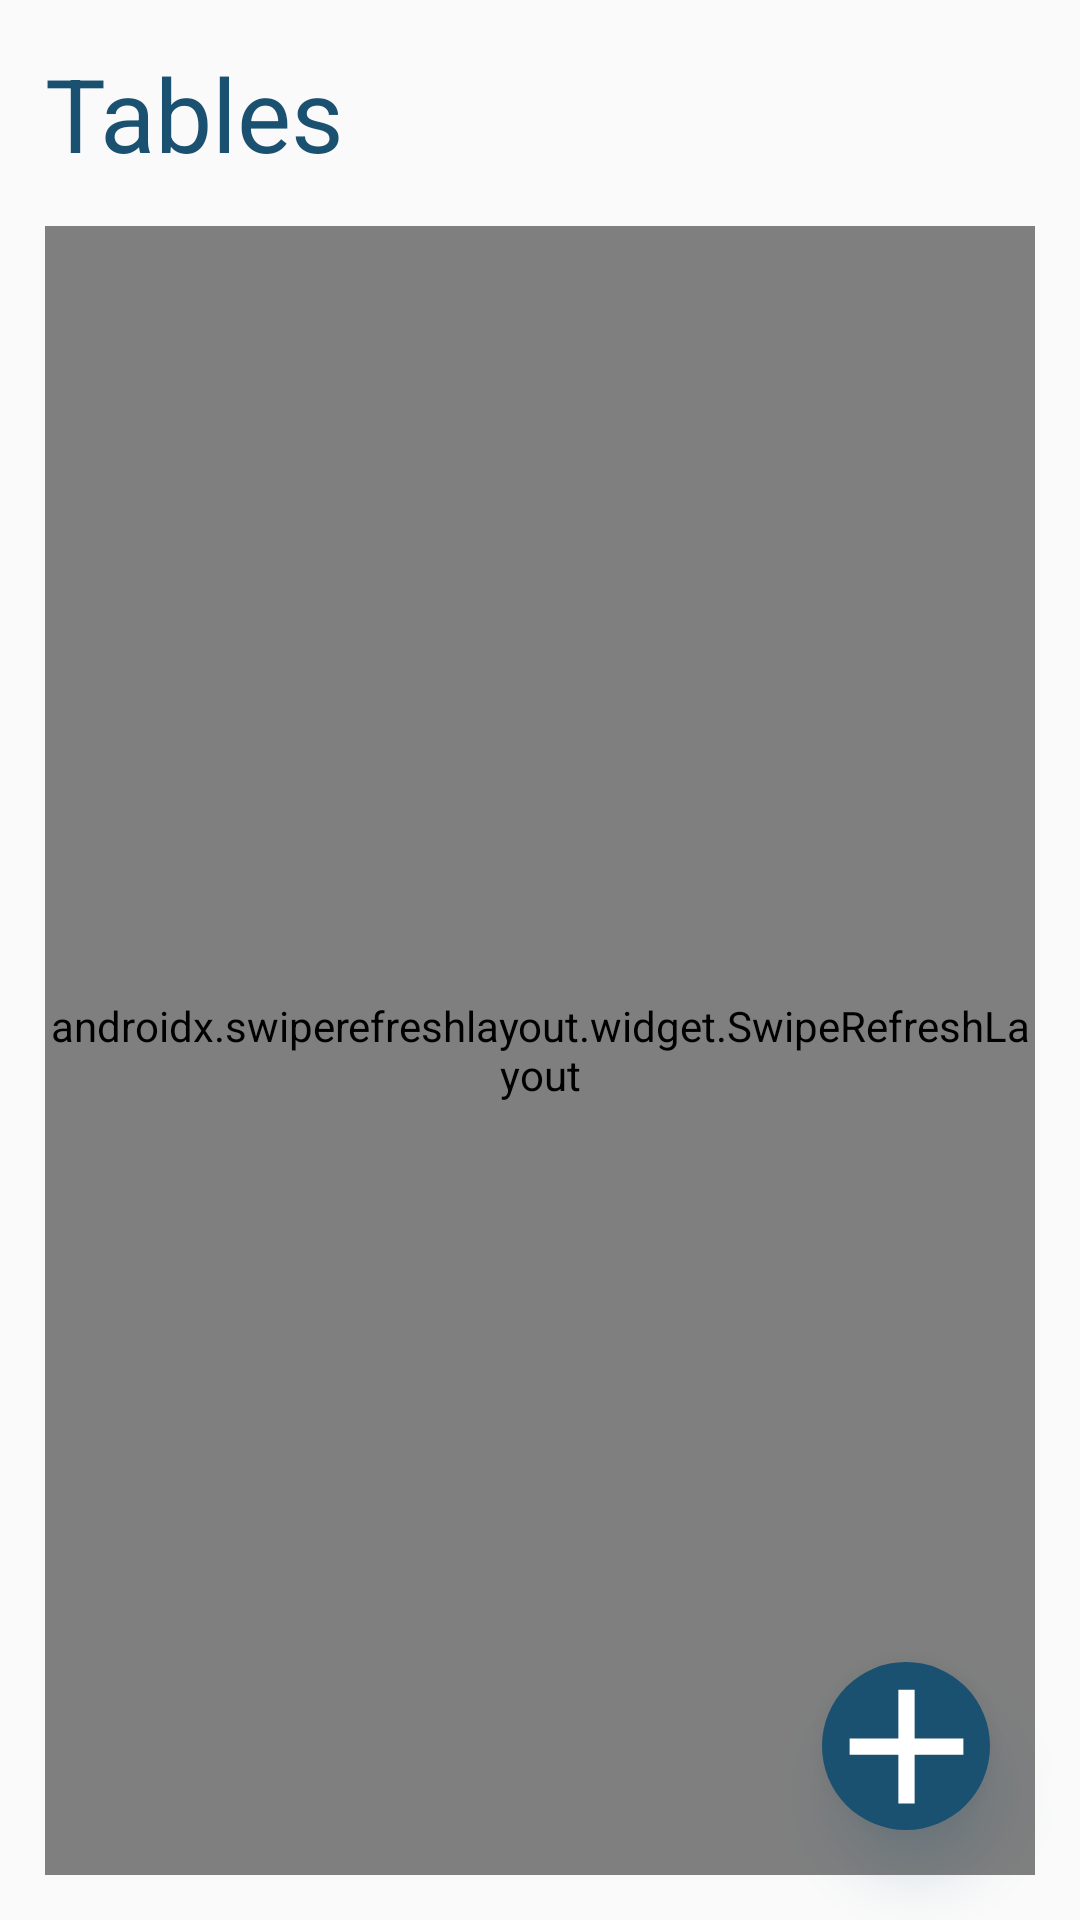

Where to tap for icons on this 1080 x 1920 app screen, as [x,y]:
plus: [906,1746]
